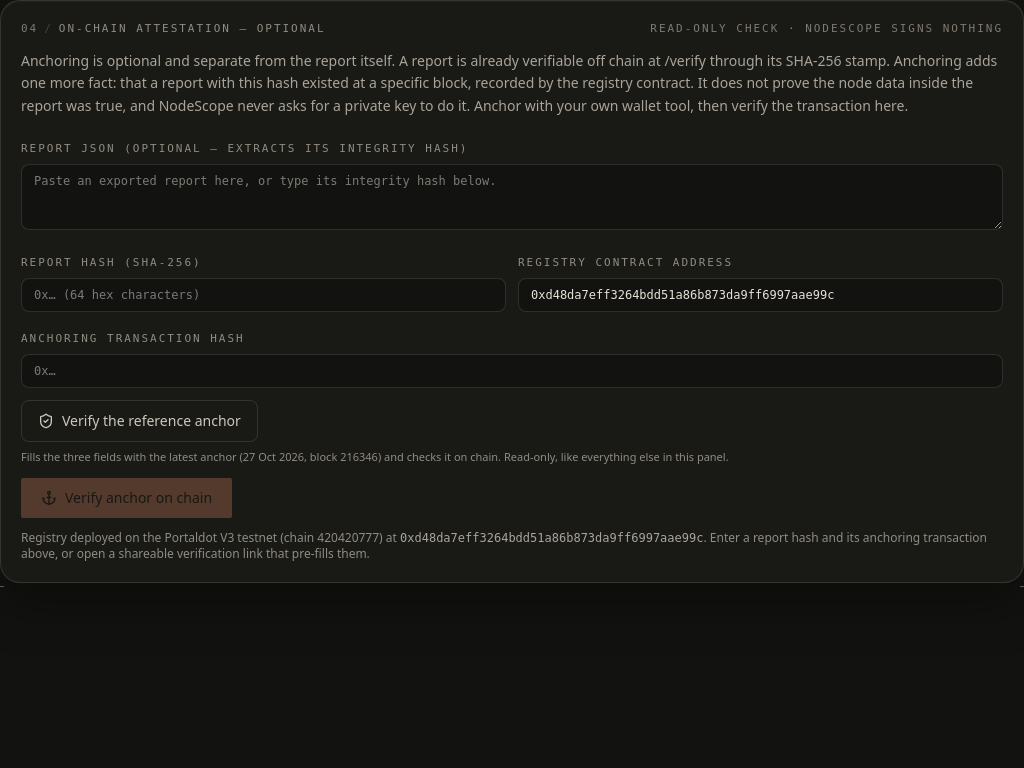
Test: AttestationPanel › explains why the verify button stays disabled for an invalid hash
In the field with placeholder "0x… (64 hex characters)": [264, 295] box [21, 278, 506, 312], type "abc"
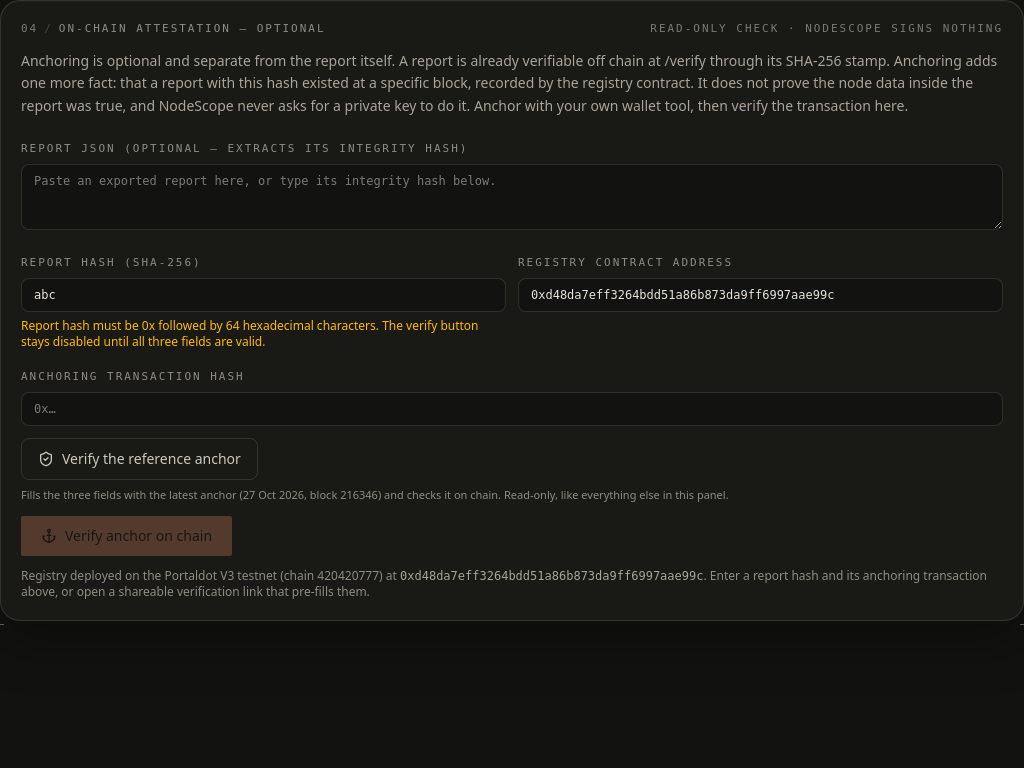
Expected: the button "Verify anchor on chain" is disabled, [21, 516, 232, 556]
Expected: the text "Report hash must be 0x followed by 64 hexadecimal characters" is shown, [21, 317, 478, 350]
